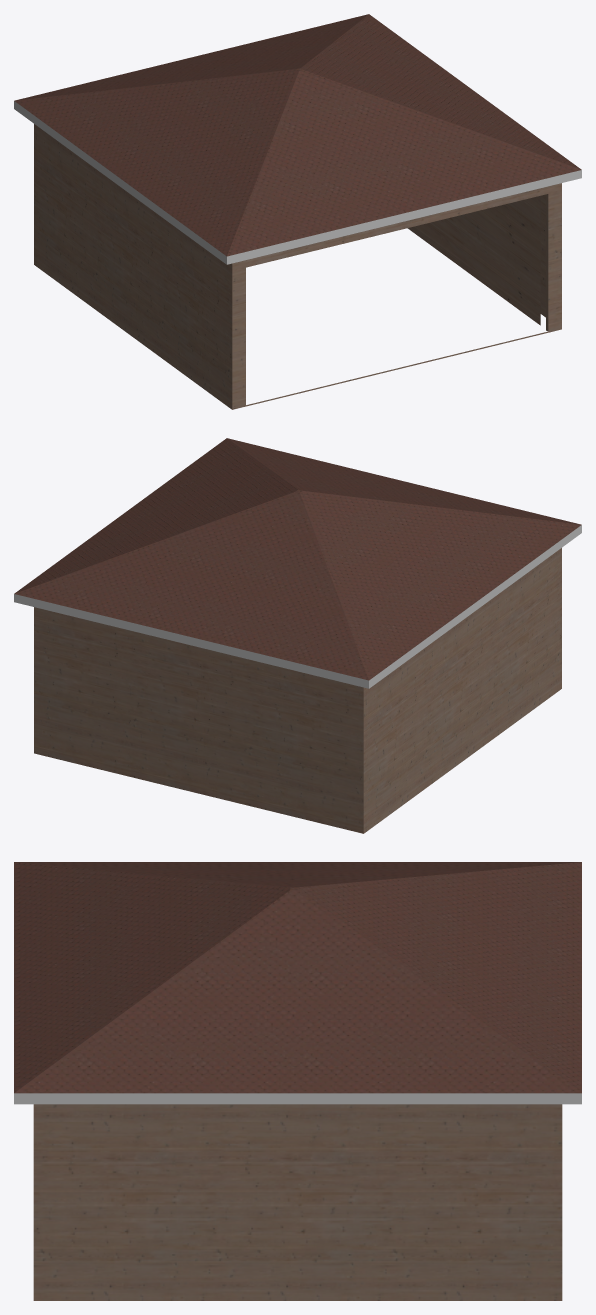
Rendered from Exterior.fbx.
3 views of the same model, one above another, from view 1: azimuth 30°, elevation 25°; view 2: azimuth 150°, elevation 25°; view 3: azimuth 270°, elevation 25° (orthographic). The views are drawn at different scales.
Parts seen in each view (by area): view 1: Exterior; view 2: Exterior; view 3: Exterior.
Part boxes in pixels (x1,y1,x2,y2): Exterior: (14,14,581,409); Exterior: (14,438,581,833); Exterior: (14,862,581,1300).
Bounding box in the file's own units: 651 × 401 × 676.
